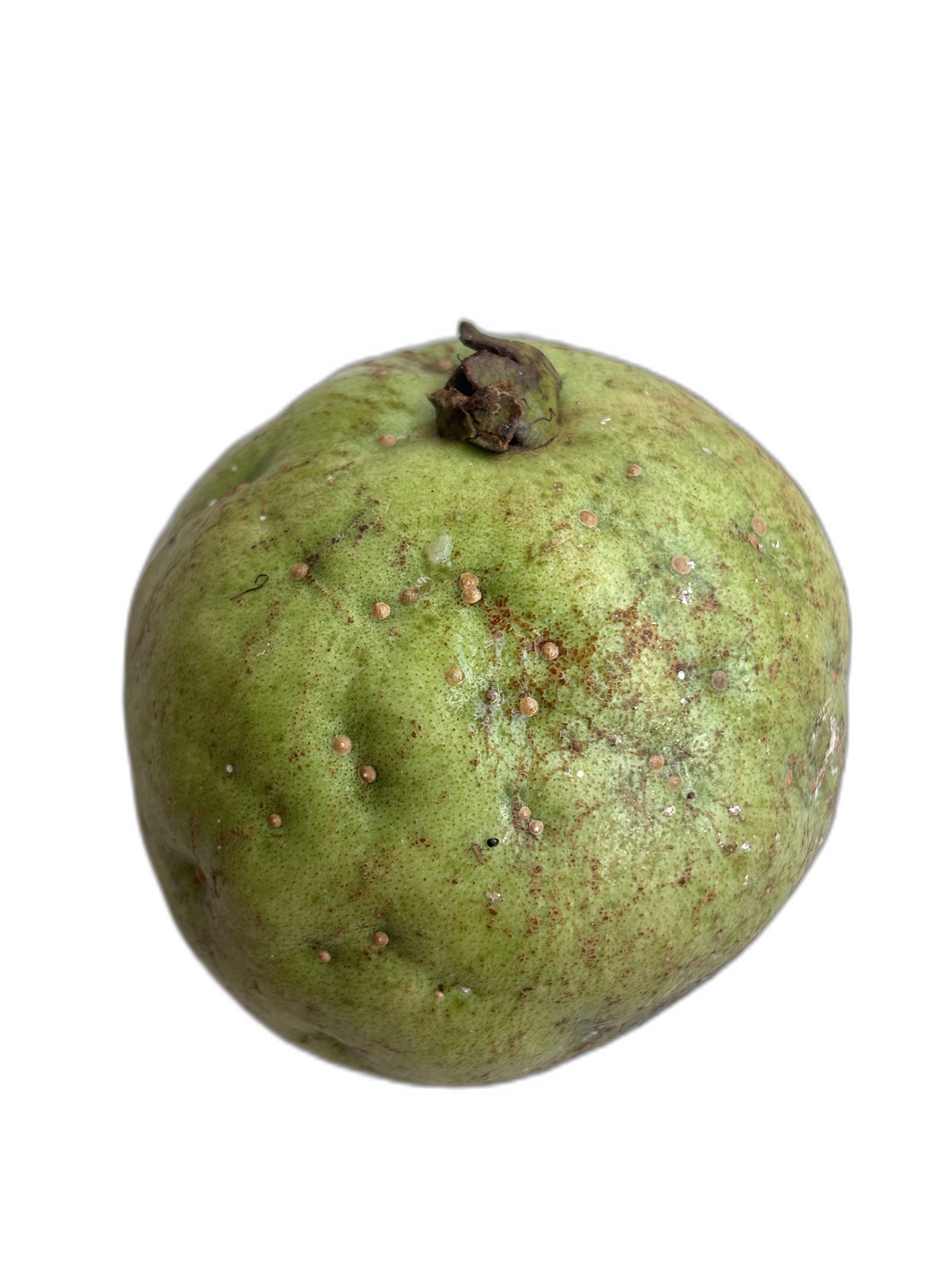guava: (107, 276, 679, 1134)
